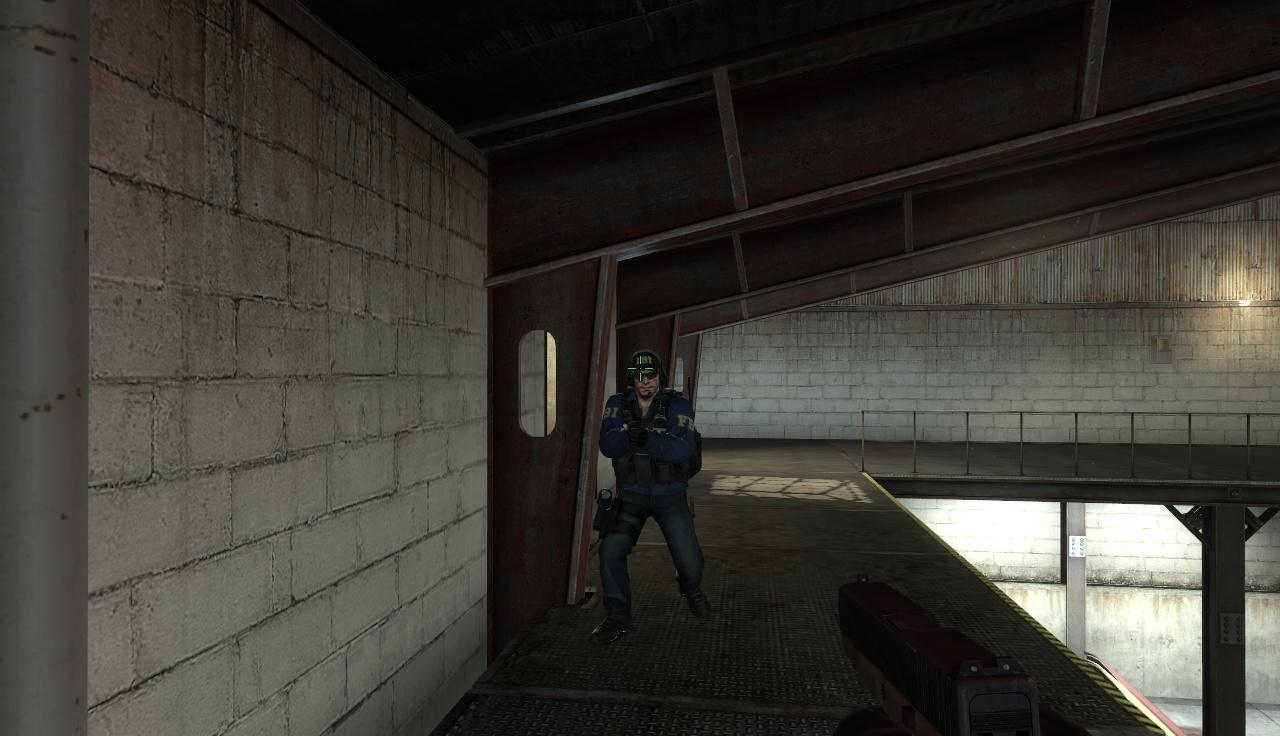ct: (595, 354, 691, 634)
cthead: (629, 350, 662, 398)
pistol: (833, 577, 1058, 736)
